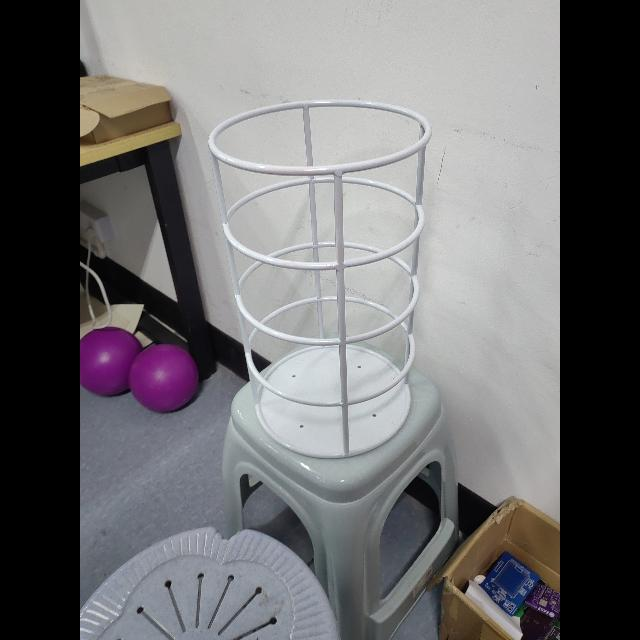S: (206, 96, 436, 464)
